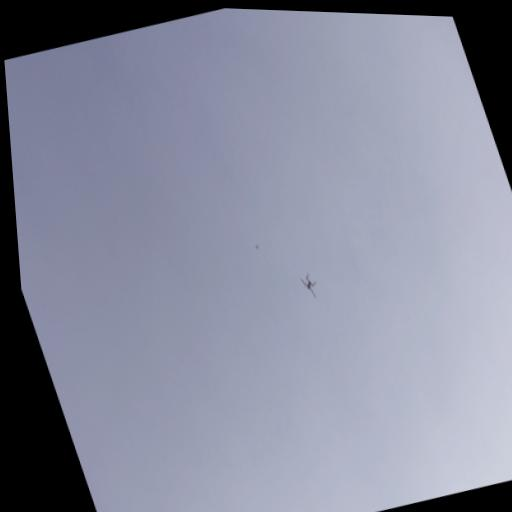drones: (295, 266, 322, 302)
